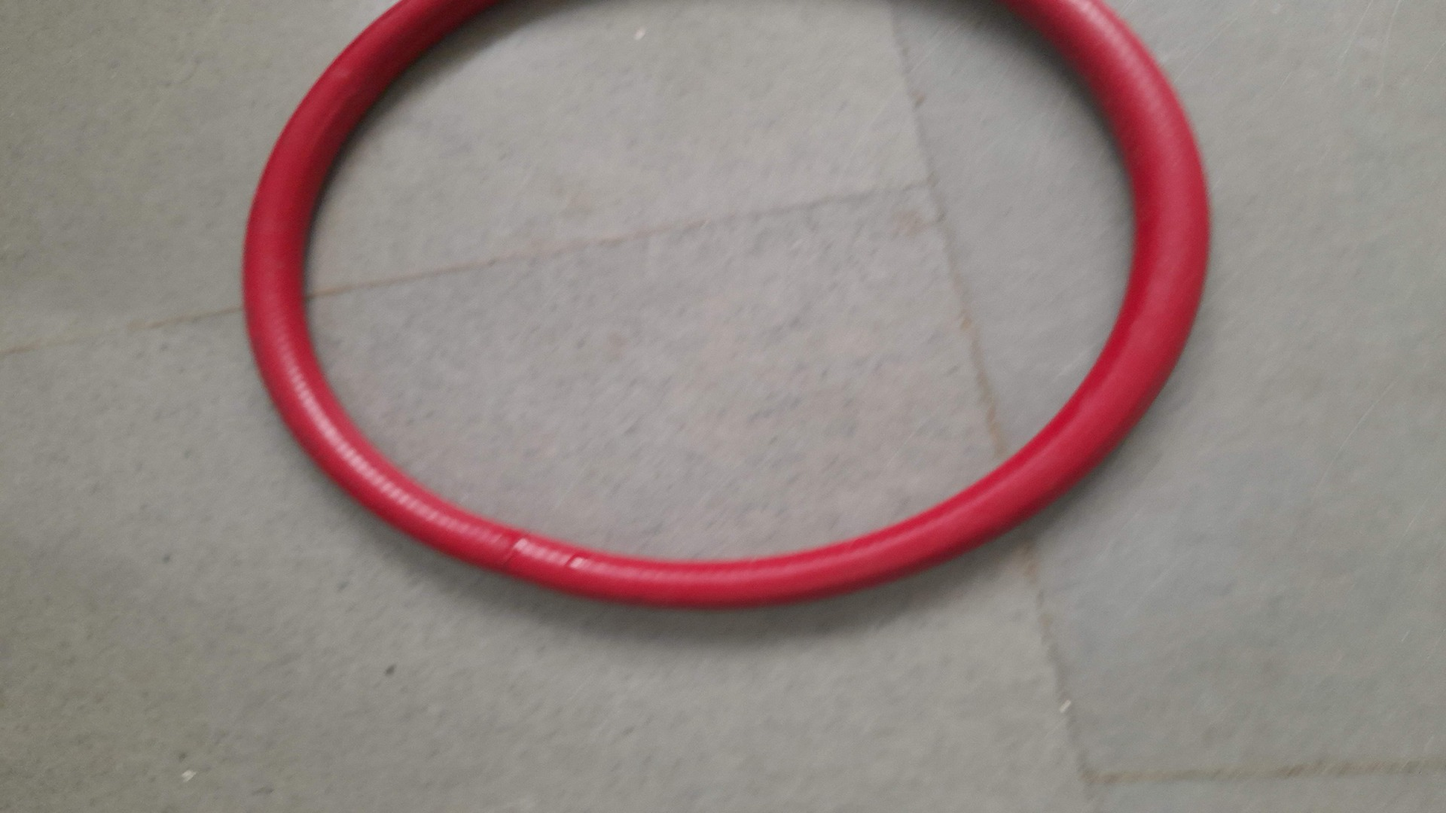Red ring: (243, 2, 1211, 607)
